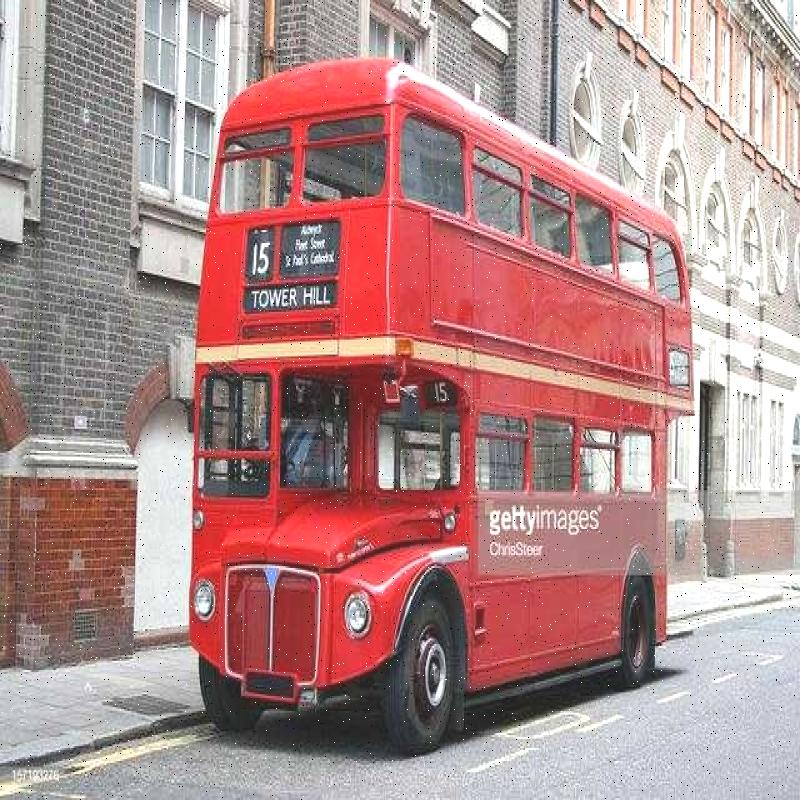bus: (181, 25, 712, 764)
